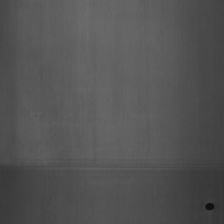punching_hole: (1, 154, 222, 179), (204, 200, 215, 212)
